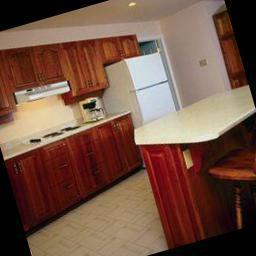Electrodomestico: (122, 53, 174, 121), (29, 117, 92, 154)
